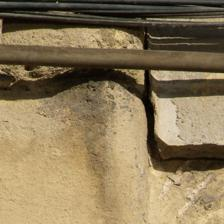Crack: (0, 26, 28, 134), (62, 66, 91, 155)
